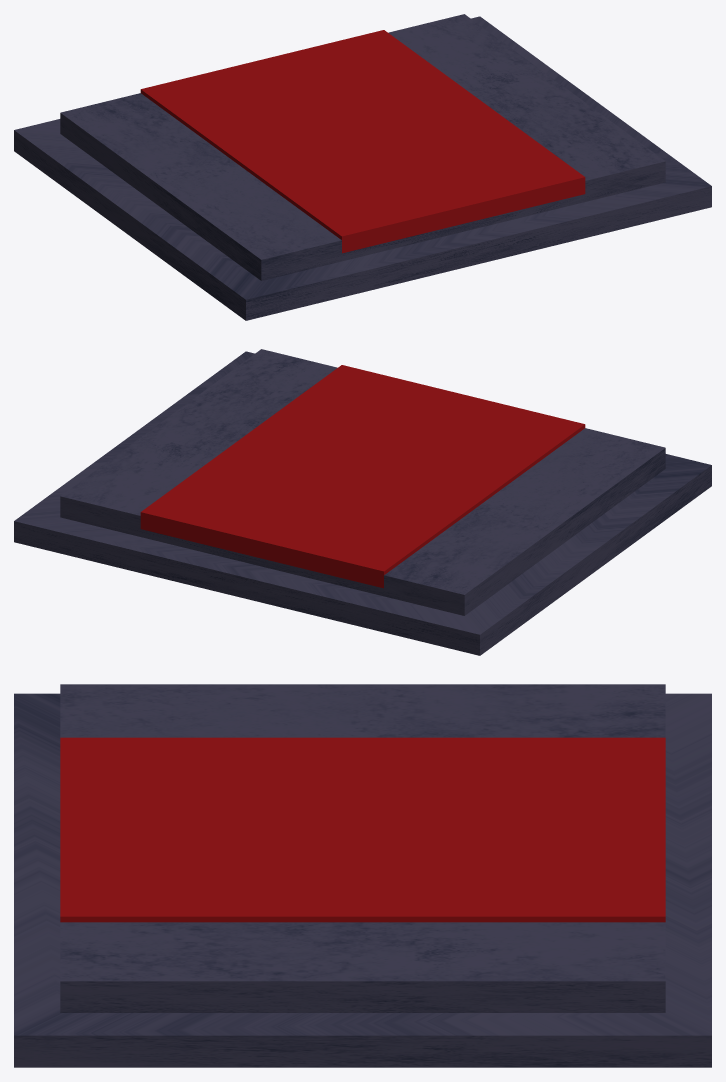
File: Base_Dano.fbx
The picture shows the model from 3 angles, top to bottom: view 1: azimuth 30°, elevation 25°; view 2: azimuth 150°, elevation 25°; view 3: azimuth 270°, elevation 25°; orthographic projection. The views are drawn at different scales.
Parts seen in each view (by area): view 1: laser chao; view 2: laser chao; view 3: laser chao.
Part boxes in pixels (x1=…): laser chao: x1=14, y1=14, x2=711, y2=320; laser chao: x1=14, y1=349, x2=711, y2=655; laser chao: x1=14, y1=684, x2=711, y2=1067.
Size of the model in its own units: 142 by 13.4 by 122.
Materials: 2 (1 with a texture image).
